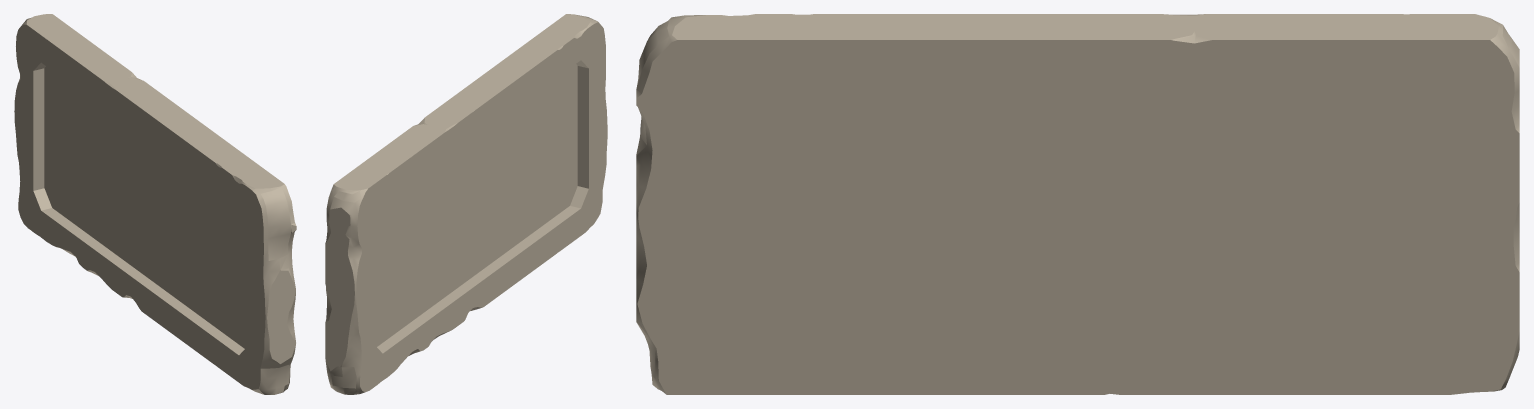
The model's file is Name_field_Owl.fbx.
3 renders of one model, left to right at view 1: azimuth 30°, elevation 25°; view 2: azimuth 150°, elevation 25°; view 3: azimuth 270°, elevation 25°, orthographic. The views are drawn at different scales.
Visible parts, largest first — view 1: Name_Slot_1.009_dmg; view 2: Name_Slot_1.009_dmg; view 3: Name_Slot_1.009_dmg.
Boxes of the visible parts, bbox=[...] form: Name_Slot_1.009_dmg: bbox=[14, 14, 296, 394]; Name_Slot_1.009_dmg: bbox=[325, 14, 607, 394]; Name_Slot_1.009_dmg: bbox=[636, 14, 1519, 394].
Bounding box in the file's own units: 7.92 × 50.5 × 114.
